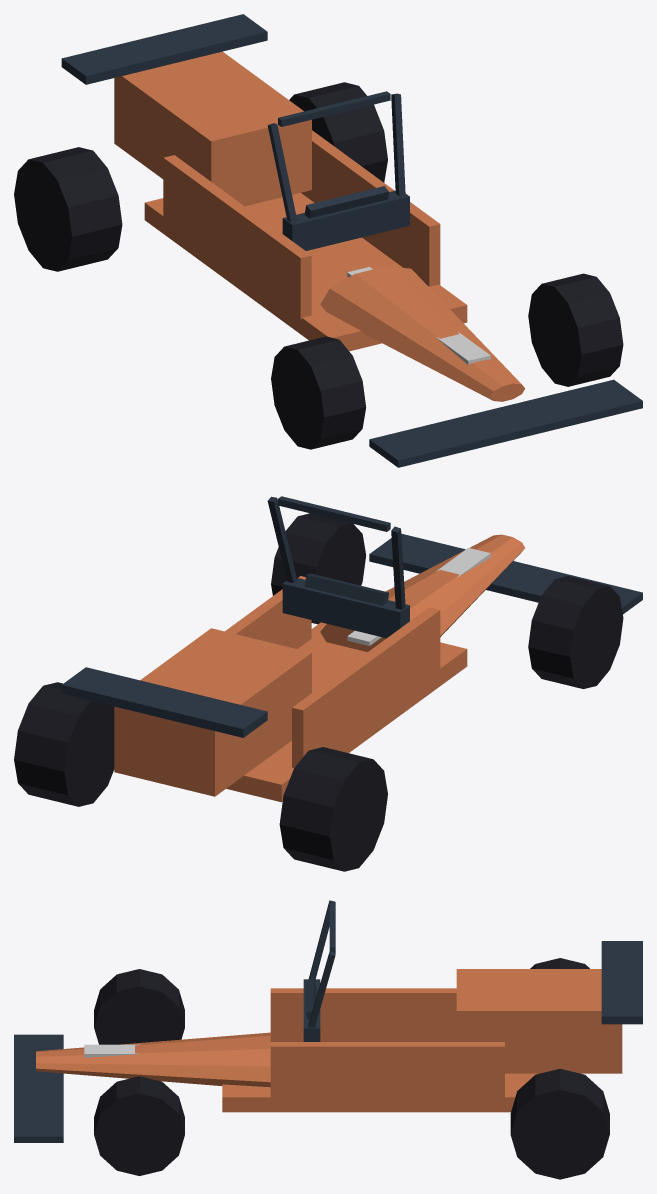
File: car_cockpit.glb
3 views of the same model, one above another, from view 1: azimuth 30°, elevation 25°; view 2: azimuth 150°, elevation 25°; view 3: azimuth 270°, elevation 25° (orthographic). The views are drawn at different scales.
Parts seen in each view (by area): view 1: car_cockpit; view 2: car_cockpit; view 3: car_cockpit.
Part boxes in pixels (x1=…): car_cockpit: x1=14, y1=14, x2=642, y2=467; car_cockpit: x1=14, y1=496, x2=642, y2=871; car_cockpit: x1=14, y1=900, x2=642, y2=1179.
Size of the model in its own units: 2.26 by 1.51 by 4.56.
